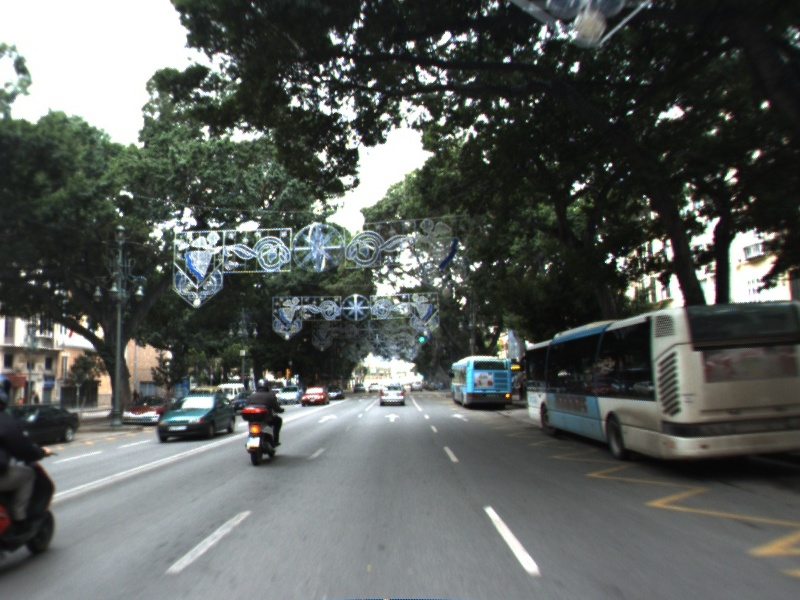STRAIGHT: (316, 412, 339, 425), (449, 411, 471, 424), (382, 411, 403, 424)
